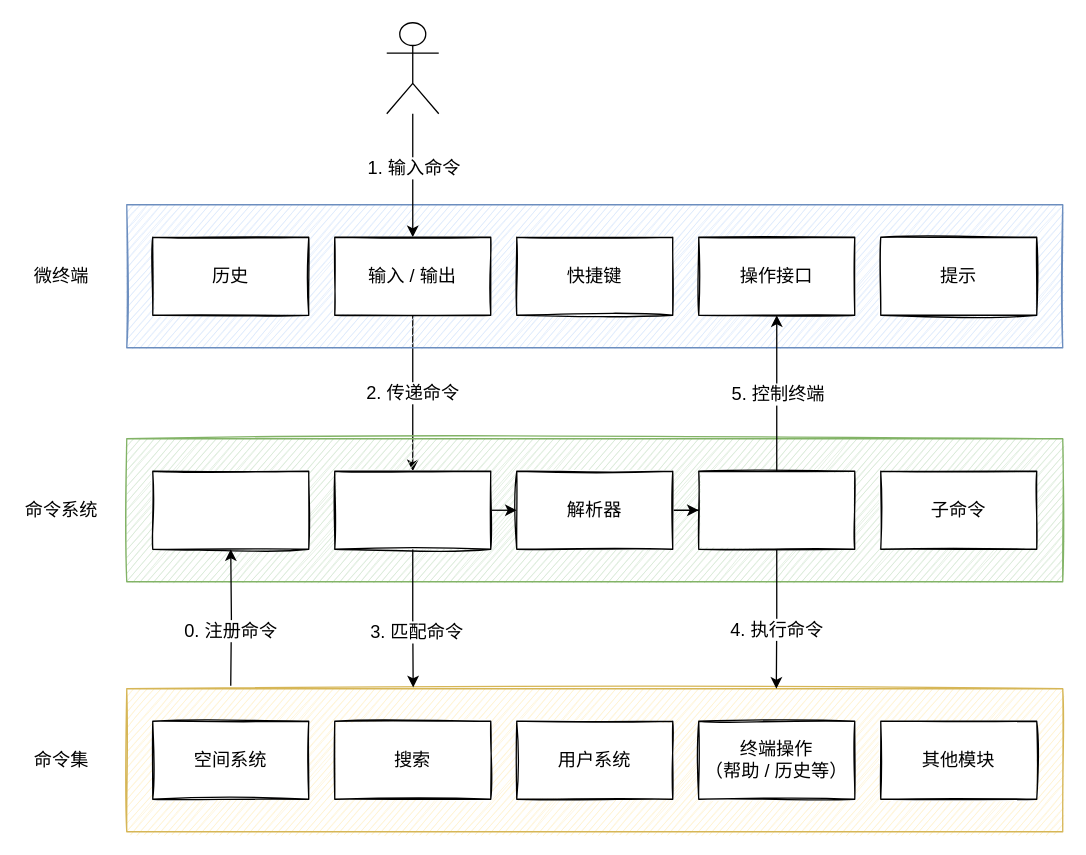
Image size: 1086x855. Some labels were removed from this diagram. Each missing label, with the centre of its shape:
匹配器: the point at 412,509
执行器: the point at 776,509
注册器: the point at 230,509
